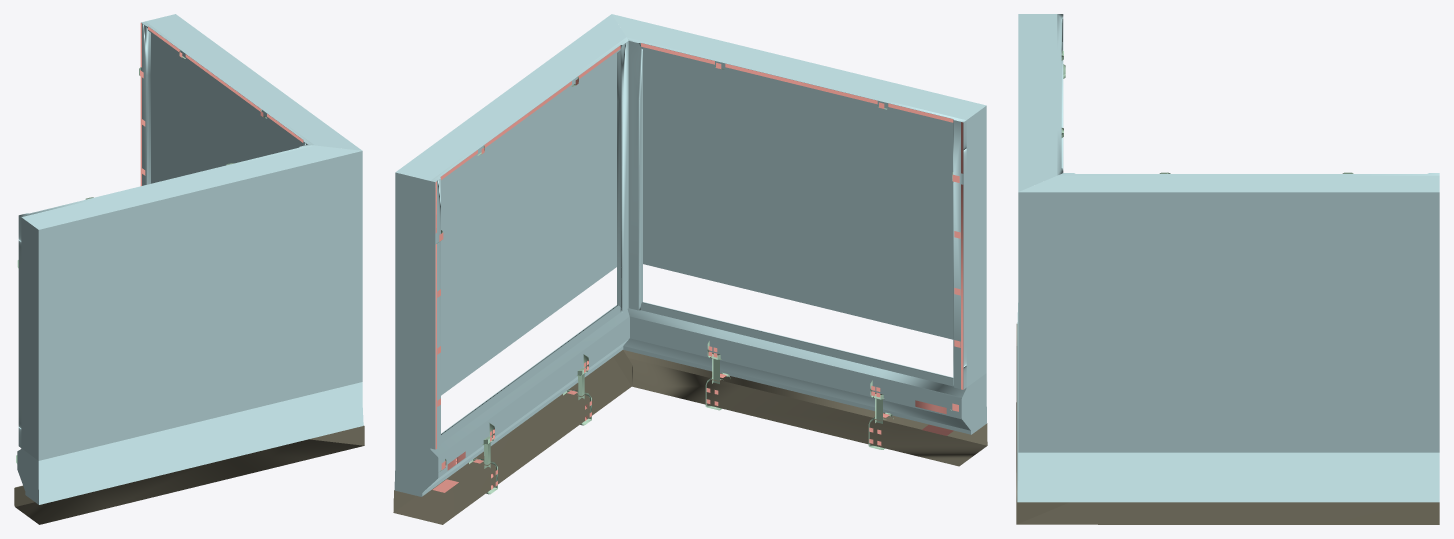
File: roomslg_b_wall_corner_in_04x01x04_a.glb
3 views of the same model, side by side, from view 1: azimuth 30°, elevation 25°; view 2: azimuth 150°, elevation 25°; view 3: azimuth 270°, elevation 25° (orthographic). The views are drawn at different scales.
Size of the model in its own units: 4.63 by 4 by 4.63.
